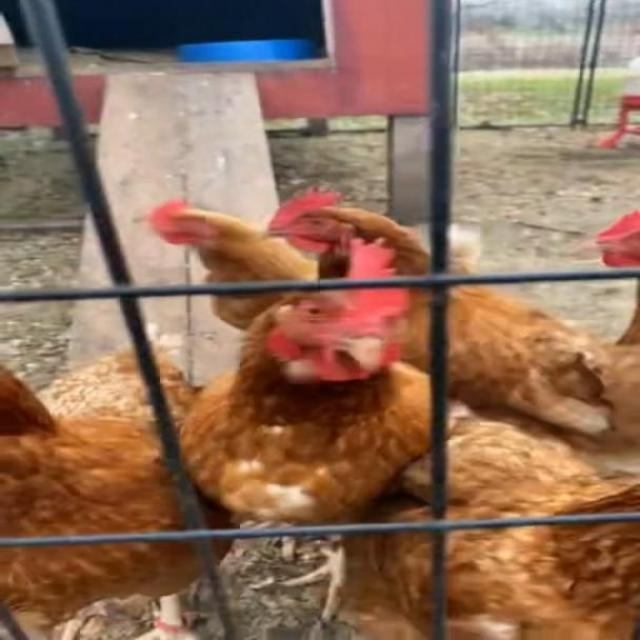Chicken: (253, 189, 640, 471), (174, 236, 453, 621), (0, 325, 241, 640), (341, 416, 640, 640), (137, 200, 478, 331), (560, 211, 640, 345)
